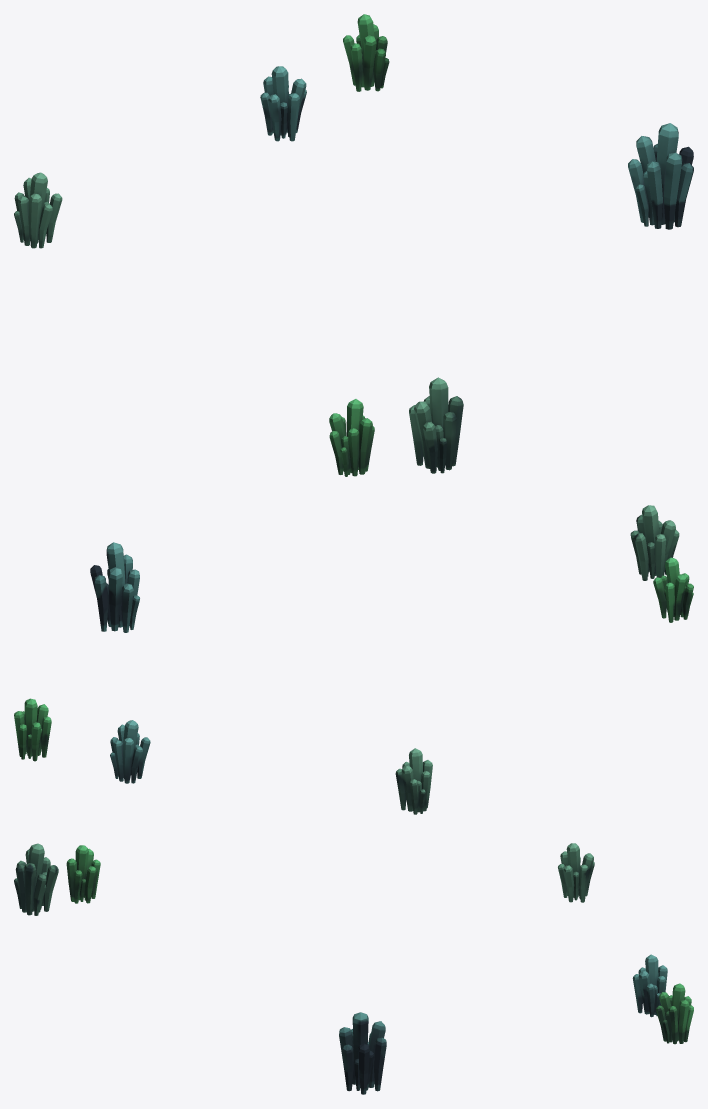
The model's file is Plant_02.FBX.
The picture shows the model from 3 angles, top to bottom: view 1: azimuth 30°, elevation 25°; view 2: azimuth 150°, elevation 25°; view 3: azimuth 270°, elevation 25°; orthographic projection. The views are drawn at different scales.
Parts seen in each view (by area): view 1: Plant_02; view 2: Plant_02; view 3: Plant_02.
Boxes of the visible parts, bbox=[...] form: Plant_02: bbox=[14, 14, 693, 476]; Plant_02: bbox=[14, 505, 693, 814]; Plant_02: bbox=[14, 843, 693, 1094].
Size of the model in its own units: 18.13 by 3.17 by 24.95.
